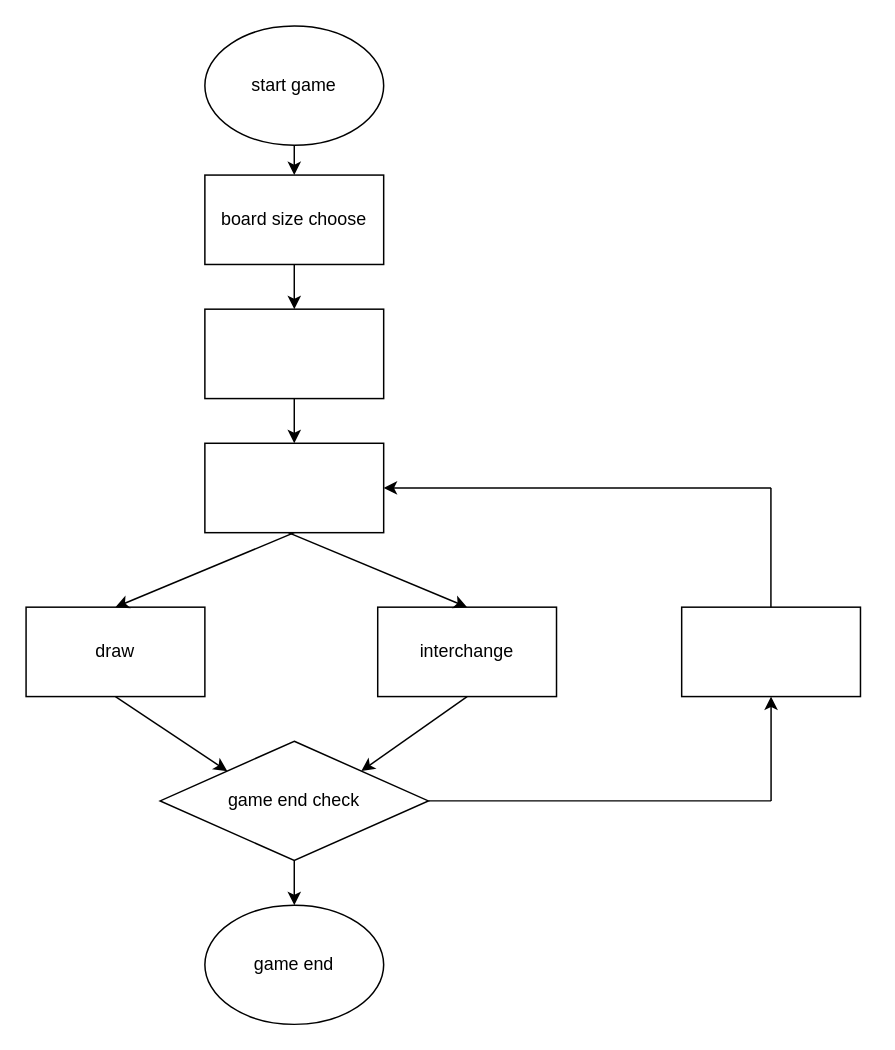
The diagram is 895 pixels wide and 1050 high, and some of its shapes have lost their labels. Here are the shapes that lost their labels. From the top down, the centre of each, then its label:
At [293,353]: "AI opponent choose".
At [293,487]: "action choose".
At [770,651]: "player change".
